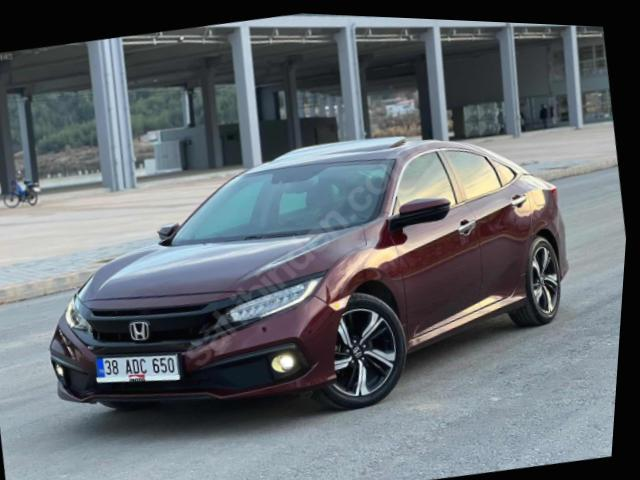plaka: (95, 354, 179, 382)
